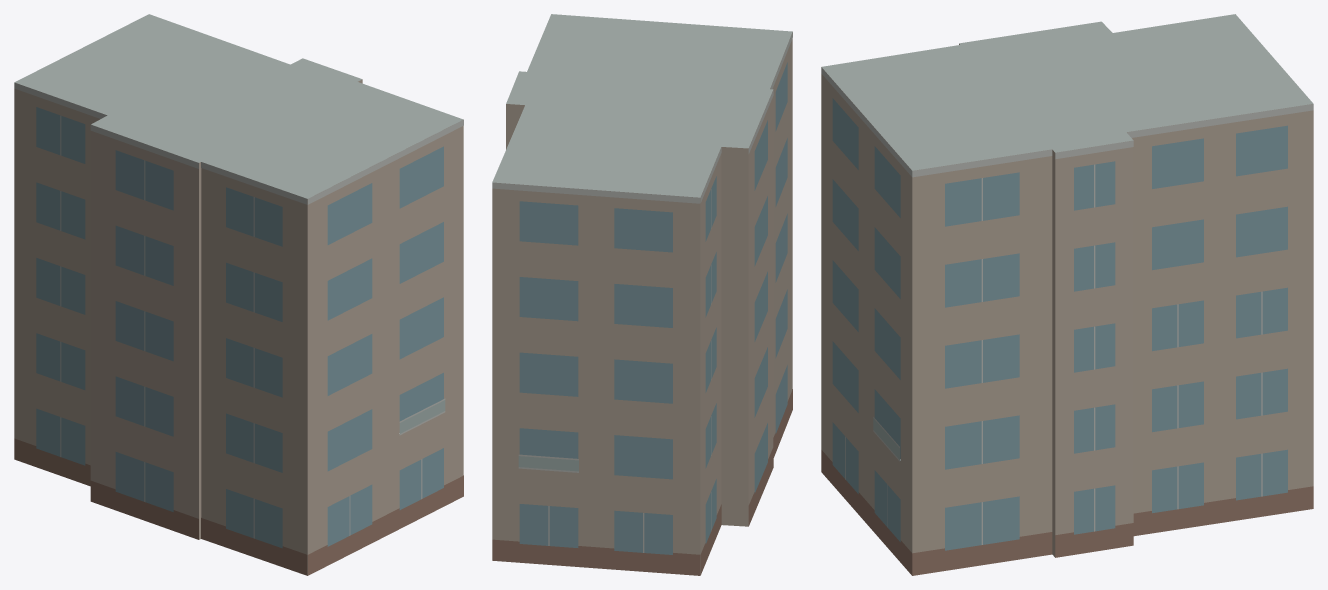
File: survey-upis-32852982.glb
The picture shows the model from 3 angles, left to right: view 1: azimuth 30°, elevation 25°; view 2: azimuth 150°, elevation 25°; view 3: azimuth 270°, elevation 25°; orthographic projection. The views are drawn at different scales.
Parts seen in each view (by area): view 1: survey-upis-32852982.tmp; view 2: survey-upis-32852982.tmp; view 3: survey-upis-32852982.tmp.
Boxes of the visible parts, box(x1,y1,x2,y2) form: survey-upis-32852982.tmp: box(14, 14, 463, 575); survey-upis-32852982.tmp: box(492, 14, 792, 575); survey-upis-32852982.tmp: box(821, 14, 1313, 575).
Size of the model in its own units: 12.55 by 15.1 by 16.64.
